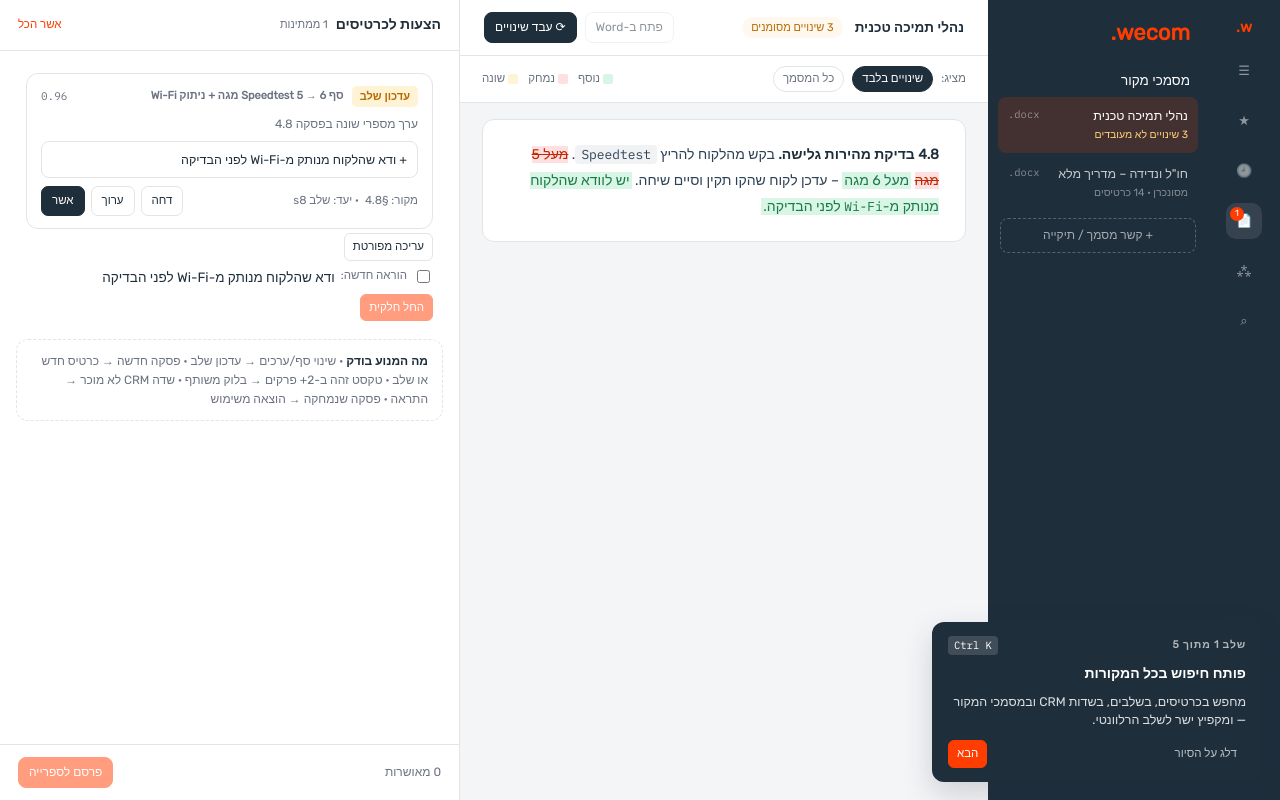
Test: <SourcesPage> › toggles between changed paragraphs and the whole document
The width and height of the screenshot is (1280, 800).
Expected: the text "מעל 5 מגה" is shown, [532, 146, 939, 189]
Expected: the text "בדיקת חסימת גלישה בארץ" is not shown
Click the button "כל המסמך". click: (809, 79)
box: [773, 66, 844, 92]
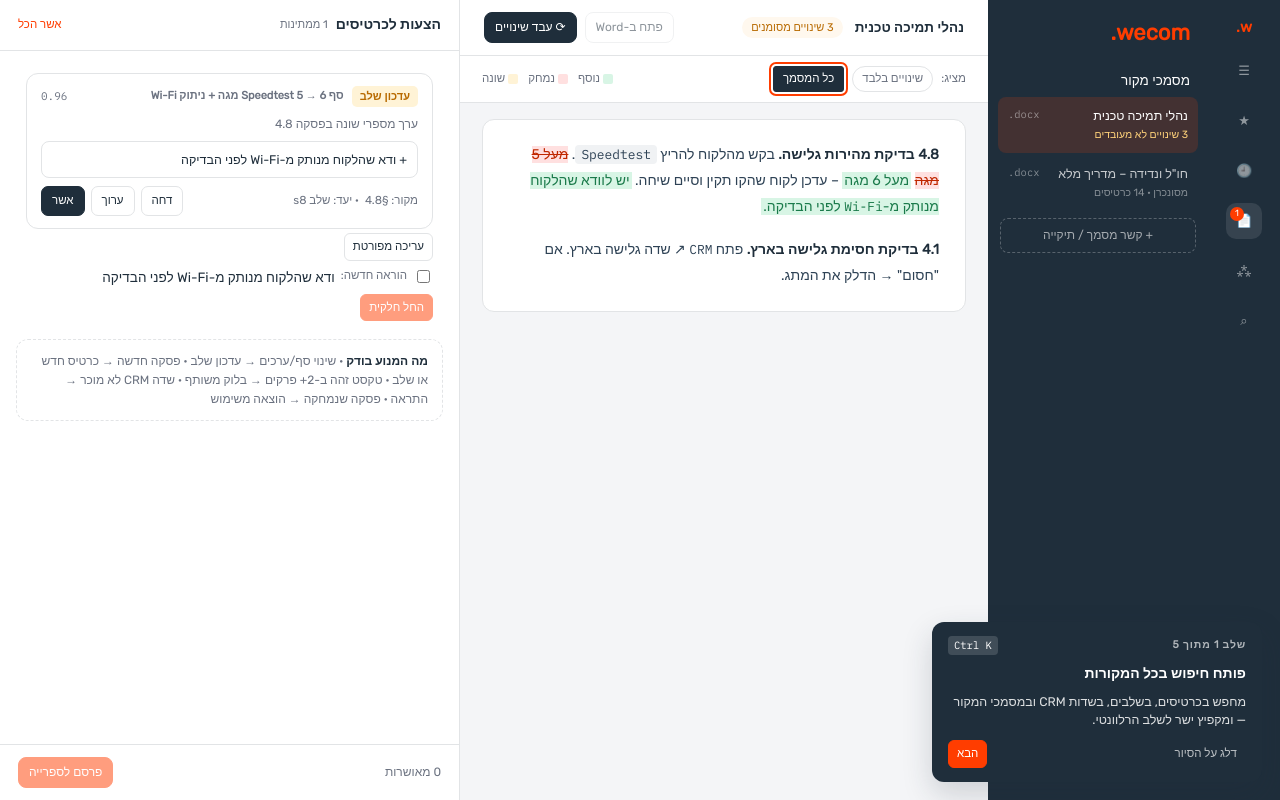
Result: the text "4.1 בדיקת חסימת גלישה בארץ." is shown at [743, 242, 939, 258]
